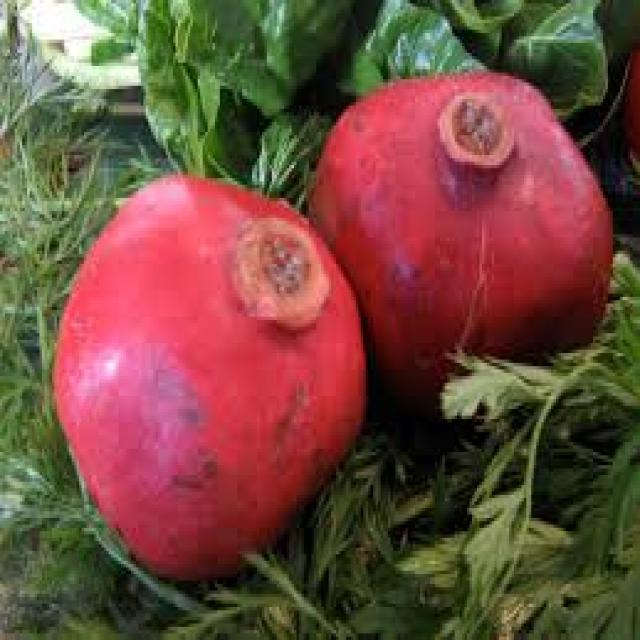organic waste: (52, 168, 366, 571), (104, 442, 637, 637), (312, 69, 606, 373), (412, 244, 638, 637), (0, 13, 141, 637), (74, 0, 339, 205), (336, 0, 632, 135), (620, 46, 638, 192)
